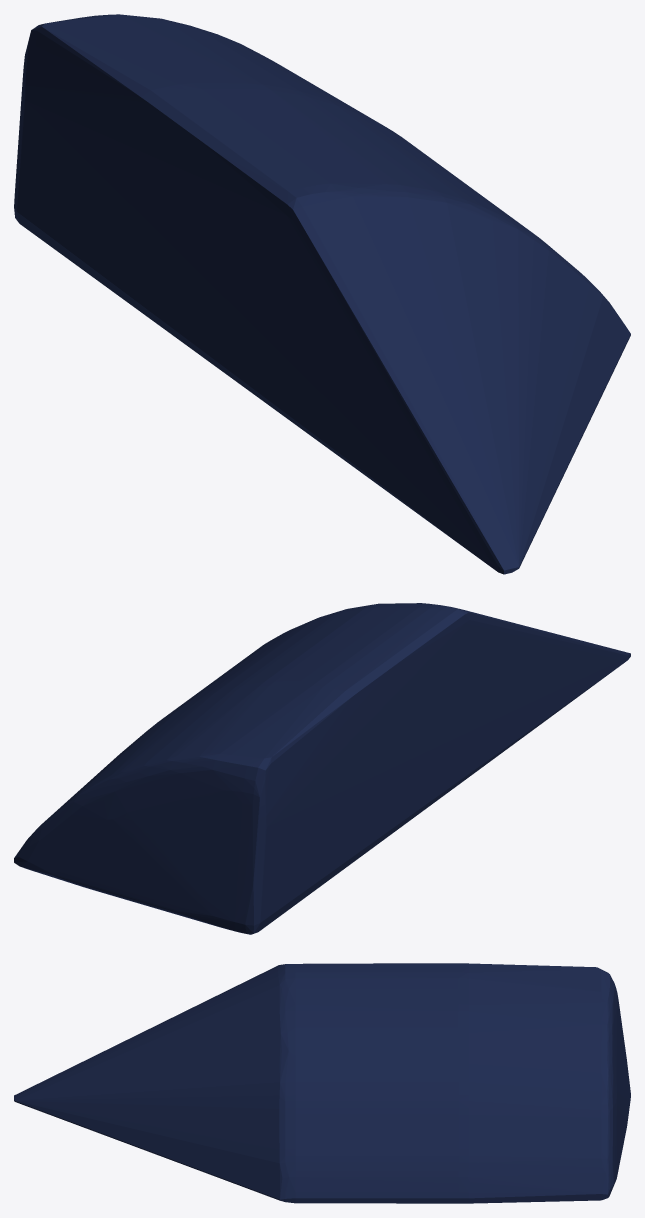
File: left-hip-pitch-0_part_21.obj
3 renders of one model, top to bottom at view 1: azimuth 30°, elevation 25°; view 2: azimuth 150°, elevation 25°; view 3: azimuth 270°, elevation 25°, orthographic. The views are drawn at different scales.
Size of the model in its own units: 0.0566 by 0.0357 by 0.1397.
